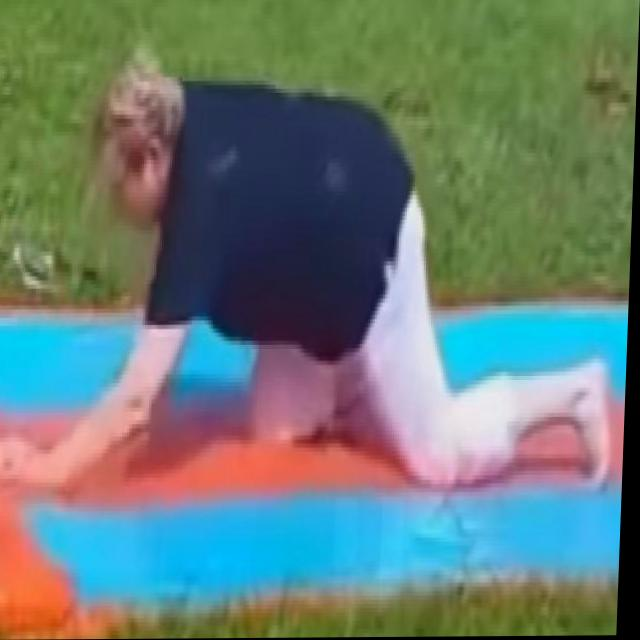fall: (0, 61, 628, 513)
